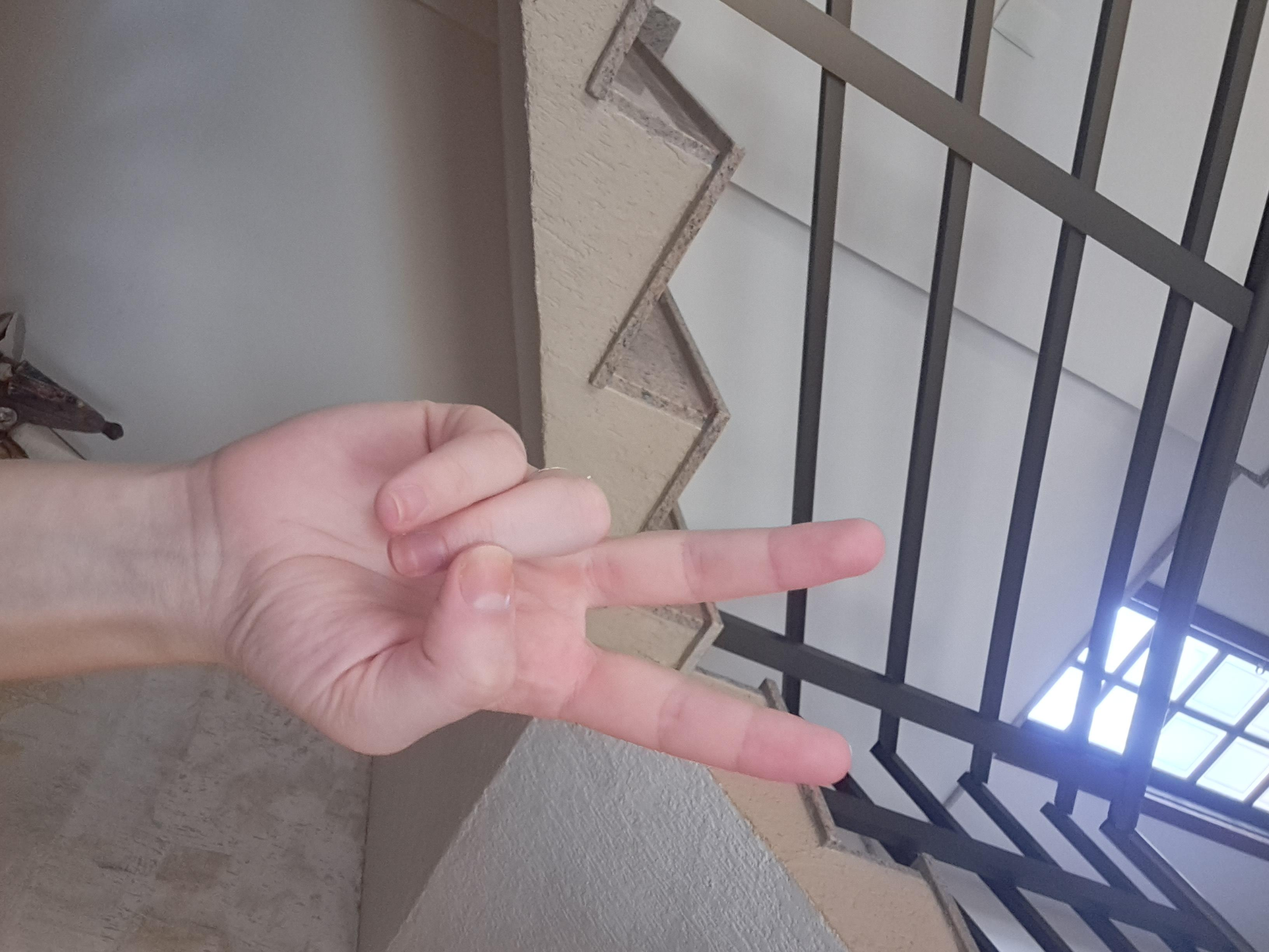V: (518, 277, 1073, 805)
